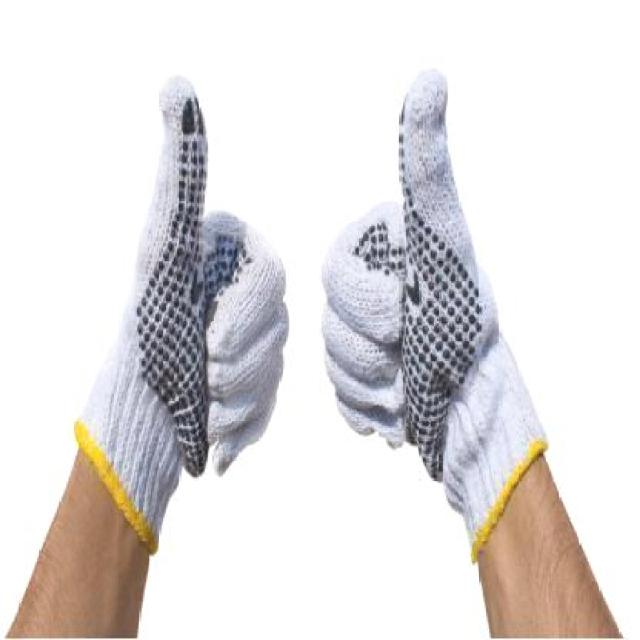hand_glove: (144, 62, 291, 490), (323, 67, 486, 448)
